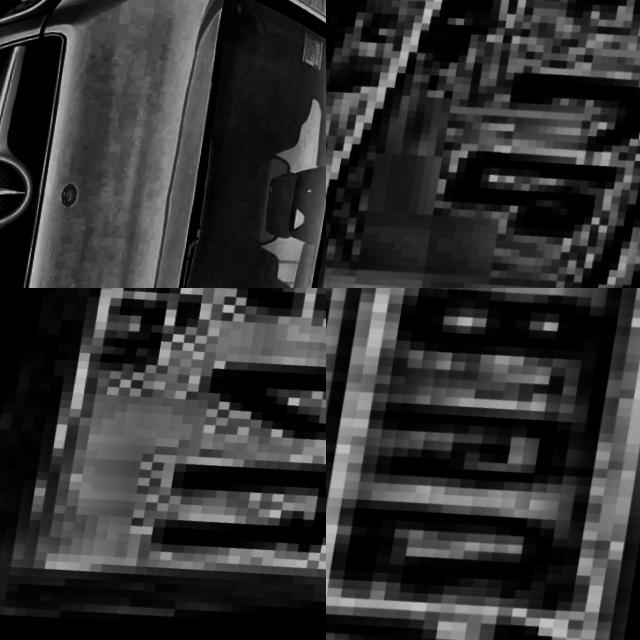license-plate: (0, 288, 326, 640), (326, 288, 640, 640), (326, 0, 640, 288)
